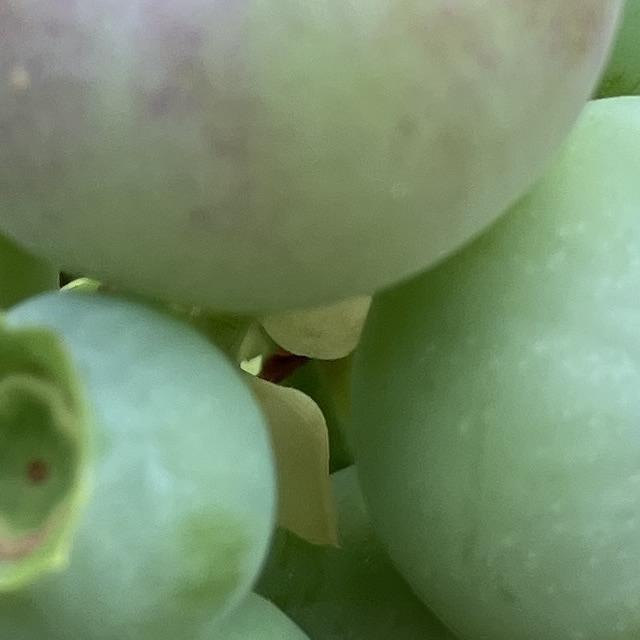Blueberries: (0, 0, 632, 316), (355, 82, 640, 640), (0, 264, 286, 640)
